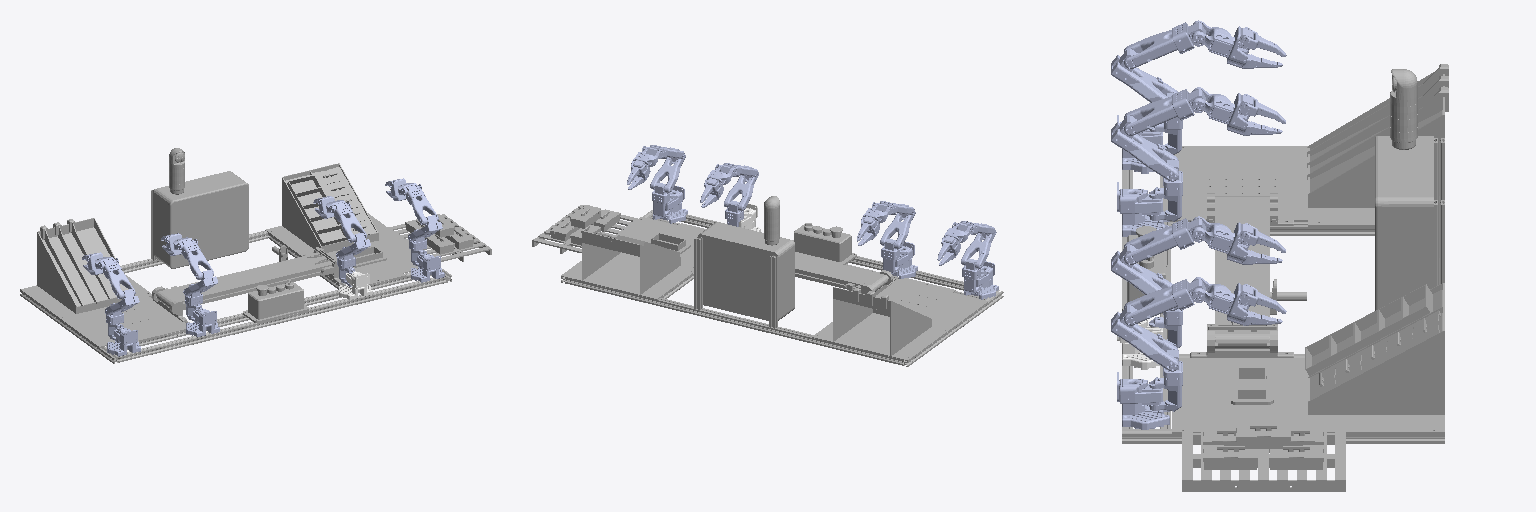
--- Render facts (derived) ---
Views: 3 orthographic renders of the robot side by side, from view 1: azimuth 30°, elevation 25°; view 2: azimuth 150°, elevation 25°; view 3: azimuth 270°, elevation 25°.
Robot: Assem1 — 29 links, 28 joints (27 revolute, 1 fixed); root link base_link; default pose: every joint at zero.
Links seen in each view (by area): view 1: base_link, arm1link1, arm2link1, arm4link1, arm3link1, arm1link4, arm4link4, arm2link4, arm3link4; view 2: base_link, arm2link3, arm3link3, arm1link3, arm4link3, arm3link1, arm1link1, arm2link1; view 3: base_link, arm3link1, arm2link4, arm1link4, arm3link4, arm4link4, arm3link3, arm2link3, arm2link1, arm1link3, arm4link3, arm2link2 (+13 smaller).
Link boxes in pixels (<box>): base_link: <box>20,148,491,363</box>; arm1link1: <box>107,328,140,356</box>; arm2link1: <box>186,308,219,337</box>; arm4link1: <box>339,271,372,300</box>; arm3link1: <box>411,254,444,282</box>; arm1link4: <box>103,259,135,298</box>; arm4link4: <box>334,202,366,242</box>; arm2link4: <box>181,240,213,279</box>; arm3link4: <box>406,185,438,224</box>; base_link: <box>532,196,1003,366</box>; arm2link3: <box>880,204,915,248</box>; arm3link3: <box>650,147,685,192</box>; arm1link3: <box>961,223,996,268</box>; arm4link3: <box>724,165,758,210</box>; arm3link1: <box>653,186,687,223</box>; arm1link1: <box>964,261,998,299</box>; arm2link1: <box>892,242,917,278</box>; base_link: <box>1122,64,1448,491</box>; arm3link1: <box>1117,372,1169,429</box>; arm2link4: <box>1124,89,1205,135</box>; arm1link4: <box>1124,22,1205,68</box>; arm3link4: <box>1124,279,1205,325</box>; arm4link4: <box>1124,218,1205,264</box>; arm3link3: <box>1111,305,1178,371</box>; arm2link3: <box>1111,115,1178,181</box>; arm2link1: <box>1117,182,1169,236</box>; arm1link3: <box>1111,48,1177,102</box>; arm4link3: <box>1111,244,1177,310</box>; arm2link2: <box>1149,160,1182,221</box>.
Size in the robot's own frame: 1.45 by 0.6189 by 0.4218 metres.
29 mesh visuals loaded from 29 distinct referenced files (29 binary STL).

robot.urdf — Assem1:
<?xml version="1.0" encoding="utf-8"?>
<!-- This URDF was automatically created by SolidWorks to URDF Exporter! Originally created by Stephen Brawner ([email redacted]) 
     Commit Version: 1.6.0-4-g7f85cfe  Build Version: 1.6.7995.38578
     For more information, please see http://wiki.ros.org/sw_urdf_exporter -->
<robot
  name="Assem1">
  <link
    name="base_link">
    <inertial>
      <origin
        xyz="0.075591 0.18181 0.53368"
        rpy="0 0 0" />
      <mass
        value="7.5328" />
      <inertia
        ixx="0.047575"
        ixy="5.04E-06"
        ixz="-1.2639E-06"
        iyy="0.1993"
        iyz="0.0015833"
        izz="0.16712" />
    </inertial>
    <visual>
      <origin
        xyz="0 0 0"
        rpy="0 0 0" />
      <geometry>
        <mesh
          filename="package://Assem1/meshes/base_link.STL" />
      </geometry>
      <material
        name="">
        <color
          rgba="0.75294 0.75294 0.75294 1" />
      </material>
    </visual>
    <collision>
      <origin
        xyz="0 0 0"
        rpy="0 0 0" />
      <geometry>
        <mesh
          filename="package://Assem1/meshes/base_link.STL" />
      </geometry>
    </collision>
  </link>
  <link
    name="arm1link1">
    <inertial>
      <origin
        xyz="-0.55999 -0.28744 0.051236"
        rpy="0 0 0" />
      <mass
        value="7.7227" />
      <inertia
        ixx="0.29983"
        ixy="0.0089672"
        ixz="-0.019248"
        iyy="0.99471"
        iyz="0.048622"
        izz="1.206" />
    </inertial>
    <visual>
      <origin
        xyz="0 0 0"
        rpy="0 0 0" />
      <geometry>
        <mesh
          filename="package://Assem1/meshes/arm1link1.STL" />
      </geometry>
      <material
        name="">
        <color
          rgba="0.79216 0.81961 0.93333 1" />
      </material>
    </visual>
    <collision>
      <origin
        xyz="0 0 0"
        rpy="0 0 0" />
      <geometry>
        <mesh
          filename="package://Assem1/meshes/arm1link1.STL" />
      </geometry>
    </collision>
  </link>
  <joint
    name="arm1_joint_base"
    type="fixed">
    <origin
      xyz="-0.47438 -0.81752 0.13149"
      rpy="0 0 -3.1416" />
    <parent
      link="base_link" />
    <child
      link="arm1link1" />
    <axis
      xyz="0 0 0" />
    <limit
      lower="0"
      upper="0"
      effort="0"
      velocity="0" />
  </joint>
  <link
    name="arm1link2">
    <inertial>
      <origin
        xyz="-0.589155263772604 0.0347360316411588 0.242236398861091"
        rpy="0 0 0" />
      <mass
        value="7.72274334503839" />
      <inertia
        ixx="0.299829514622356"
        ixy="-0.0192483600549362"
        ixz="-0.00896715497574477"
        iyy="1.20600140973128"
        iyz="-0.0486215838552607"
        izz="0.994714328801268" />
    </inertial>
    <visual>
      <origin
        xyz="0 0 0"
        rpy="0 0 0" />
      <geometry>
        <mesh
          filename="package://Assem1/meshes/arm1link2.STL" />
      </geometry>
      <material
        name="">
        <color
          rgba="0.792156862745098 0.819607843137255 0.933333333333333 1" />
      </material>
    </visual>
    <collision>
      <origin
        xyz="0 0 0"
        rpy="0 0 0" />
      <geometry>
        <mesh
          filename="package://Assem1/meshes/arm1link2.STL" />
      </geometry>
    </collision>
  </link>
  <joint
    name="arm1_joint2"
    type="revolute">
    <origin
      xyz="0.029162 -0.0452 0.0165"
      rpy="1.5708 0 0" />
    <parent
      link="arm1link1" />
    <child
      link="arm1link2" />
    <axis
      xyz="1 0 0" />
    <limit
      lower="-1.57"
      upper="1.57"
      effort="50"
      velocity="100" />
  </joint>
  <link
    name="arm1link3">
    <inertial>
      <origin
        xyz="-0.589155263772605 -0.212230202839986 0.0658806583496807"
        rpy="0 0 0" />
      <mass
        value="7.72274334503839" />
      <inertia
        ixx="0.299829514622356"
        ixy="-0.00369494243607378"
        ixz="-0.0209106822834102"
        iyy="1.10991499397471"
        iyz="0.115902016487559"
        izz="1.09080074455783" />
    </inertial>
    <visual>
      <origin
        xyz="0 0 0"
        rpy="0 0 0" />
      <geometry>
        <mesh
          filename="package://Assem1/meshes/arm1link3.STL" />
      </geometry>
      <material
        name="">
        <color
          rgba="0.792156862745098 0.819607843137255 0.933333333333333 1" />
      </material>
    </visual>
    <collision>
      <origin
        xyz="0 0 0"
        rpy="0 0 0" />
      <geometry>
        <mesh
          filename="package://Assem1/meshes/arm1link3.STL" />
      </geometry>
    </collision>
  </link>
  <joint
    name="arm1_joint3"
    type="revolute">
    <origin
      xyz="0 0.1025 0.0306"
      rpy="-0.95993 0 0" />
    <parent
      link="arm1link2" />
    <child
      link="arm1link3" />
    <axis
      xyz="1 0 0" />
    <limit
      lower="-1.57"
      upper="1.57"
      effort="50"
      velocity="100" />
  </joint>
  <link
    name="arm1link4">
    <inertial>
      <origin
        xyz="0.589355263432861 0.262344873646822 0.195205701163893"
        rpy="0 0 0" />
      <mass
        value="7.72274334503839" />
      <inertia
        ixx="0.299829514622355"
        ixy="-0.0136552551568466"
        ixz="0.0162617108498505"
        iyy="1.20551052224856"
        iyz="-0.0496742954591334"
        izz="0.995205216283983" />
    </inertial>
    <visual>
      <origin
        xyz="0 0 0"
        rpy="0 0 0" />
      <geometry>
        <mesh
          filename="package://Assem1/meshes/arm1link4.STL" />
      </geometry>
      <material
        name="">
        <color
          rgba="0.792156862745098 0.819607843137255 0.933333333333333 1" />
      </material>
    </visual>
    <collision>
      <origin
        xyz="0 0 0"
        rpy="0 0 0" />
      <geometry>
        <mesh
          filename="package://Assem1/meshes/arm1link4.STL" />
      </geometry>
    </collision>
  </link>
  <joint
    name="arm1_joint4"
    type="revolute">
    <origin
      xyz="0.0002 0.11257 0.028"
      rpy="-0.5236 0 -3.1416" />
    <parent
      link="arm1link3" />
    <child
      link="arm1link4" />
    <axis
      xyz="1 0 0" />
    <limit
      lower="-1.57"
      upper="1.57"
      effort="50"
      velocity="100" />
  </joint>
  <link
    name="arm1link5">
    <inertial>
      <origin
        xyz="-0.589355263432857 -0.22447159114541 -0.139186181909"
        rpy="0 0 0" />
      <mass
        value="7.72274334503839" />
      <inertia
        ixx="0.299829514622356"
        ixy="0.00184304249537437"
        ixz="-0.0211544895358863"
        iyy="1.05068357380714"
        iyz="0.105152652982289"
        izz="1.15003216472541" />
    </inertial>
    <visual>
      <origin
        xyz="0 0 0"
        rpy="0 0 0" />
      <geometry>
        <mesh
          filename="package://Assem1/meshes/arm1link5.STL" />
      </geometry>
      <material
        name="">
        <color
          rgba="0.792156862745098 0.819607843137255 0.933333333333333 1" />
      </material>
    </visual>
    <collision>
      <origin
        xyz="0 0 0"
        rpy="0 0 0" />
      <geometry>
        <mesh
          filename="package://Assem1/meshes/arm1link5.STL" />
      </geometry>
    </collision>
  </link>
  <joint
    name="arm1_joint5"
    type="revolute">
    <origin
      xyz="0 0.0052 0.1349"
      rpy="-0.7854 0 3.1416" />
    <parent
      link="arm1link4" />
    <child
      link="arm1link5" />
    <axis
      xyz="1 0 0" />
    <limit
      lower="-1.57"
      upper="1.57"
      effort="50"
      velocity="100" />
  </joint>
  <link
    name="arm1link6">
    <inertial>
      <origin
        xyz="0.139186181908998 -0.16437159137582 -0.591455269178745"
        rpy="0 0 0" />
      <mass
        value="7.72274334503839" />
      <inertia
        ixx="1.15003216472541"
        ixy="-0.105152652982289"
        ixz="0.021154489535883"
        iyy="1.05068357380714"
        iyz="0.00184304249537477"
        izz="0.299829514622356" />
    </inertial>
    <visual>
      <origin
        xyz="0 0 0"
        rpy="0 0 0" />
      <geometry>
        <mesh
          filename="package://Assem1/meshes/arm1link6.STL" />
      </geometry>
      <material
        name="">
        <color
          rgba="0.792156862745098 0.819607843137255 0.933333333333333 1" />
      </material>
    </visual>
    <collision>
      <origin
        xyz="0 0 0"
        rpy="0 0 0" />
      <geometry>
        <mesh
          filename="package://Assem1/meshes/arm1link6.STL" />
      </geometry>
    </collision>
  </link>
  <joint
    name="arm1_joint6"
    type="revolute">
    <origin
      xyz="0.0021 -0.0601 0"
      rpy="0 1.5708 0" />
    <parent
      link="arm1link5" />
    <child
      link="arm1link6" />
    <axis
      xyz="0 0 1" />
    <limit
      lower="-1.57"
      upper="1.57"
      effort="50"
      velocity="100" />
  </joint>
  <link
    name="claw1">
    <inertial>
      <origin
        xyz="-0.159386182984862 -0.139971588121406 0.591455269178746"
        rpy="0 0 0" />
      <mass
        value="7.72274334503839" />
      <inertia
        ixx="1.15003216472541"
        ixy="0.105152652982289"
        ixz="0.021154489535883"
        iyy="1.05068357380714"
        iyz="-0.00184304249537477"
        izz="0.299829514622356" />
    </inertial>
    <visual>
      <origin
        xyz="0 0 0"
        rpy="0 0 0" />
      <geometry>
        <mesh
          filename="package://Assem1/meshes/claw1.STL" />
      </geometry>
      <material
        name="">
        <color
          rgba="0.792156862745098 0.819607843137255 0.933333333333333 1" />
      </material>
    </visual>
    <collision>
      <origin
        xyz="0 0 0"
        rpy="0 0 0" />
      <geometry>
        <mesh
          filename="package://Assem1/meshes/claw1.STL" />
      </geometry>
    </collision>
  </link>
  <joint
    name="claw1_joint"
    type="revolute">
    <origin
      xyz="-0.0202 -0.0244 0"
      rpy="-3.1416 0 3.1416" />
    <parent
      link="arm1link6" />
    <child
      link="claw1" />
    <axis
      xyz="0 0 1" />
    <limit
      lower="-1.57"
      upper="1.57"
      effort="50"
      velocity="100" />
  </joint>
  <link
    name="arm2link1">
    <inertial>
      <origin
        xyz="-0.271790965063284 -0.287436400309484 0.0512360315517485"
        rpy="0 0 0" />
      <mass
        value="7.72274334503839" />
      <inertia
        ixx="0.299829514622356"
        ixy="0.00896715497574464"
        ixz="-0.0192483600549387"
        iyy="0.994714328801268"
        iyz="0.0486215838552607"
        izz="1.20600140973128" />
    </inertial>
    <visual>
      <origin
        xyz="0 0 0"
        rpy="0 0 0" />
      <geometry>
        <mesh
          filename="package://Assem1/meshes/arm2link1.STL" />
      </geometry>
      <material
        name="">
        <color
          rgba="0.792156862745098 0.819607843137255 0.933333333333333 1" />
      </material>
    </visual>
    <collision>
      <origin
        xyz="0 0 0"
        rpy="0 0 0" />
      <geometry>
        <mesh
          filename="package://Assem1/meshes/arm2link1.STL" />
      </geometry>
    </collision>
  </link>
  <joint
    name="arm2joint1"
    type="revolute">
    <origin
      xyz="-0.18618 -0.81752 0.13149"
      rpy="0 0 -3.1416" />
    <parent
      link="base_link" />
    <child
      link="arm2link1" />
    <axis
      xyz="1 0 0" />
    <limit
      lower="-1.57"
      upper="1.57"
      effort="50"
      velocity="100" />
  </joint>
  <link
    name="arm2link2">
    <inertial>
      <origin
        xyz="-0.300953463254282 0.0347360316411555 0.242236398861091"
        rpy="0 0 0" />
      <mass
        value="7.72274334503839" />
      <inertia
        ixx="0.299829514622356"
        ixy="-0.0192483600549387"
        ixz="-0.00896715497574464"
        iyy="1.20600140973128"
        iyz="-0.0486215838552607"
        izz="0.994714328801268" />
    </inertial>
    <visual>
      <origin
        xyz="0 0 0"
        rpy="0 0 0" />
      <geometry>
        <mesh
          filename="package://Assem1/meshes/arm2link2.STL" />
      </geometry>
      <material
        name="">
        <color
          rgba="0.792156862745098 0.819607843137255 0.933333333333333 1" />
      </material>
    </visual>
    <collision>
      <origin
        xyz="0 0 0"
        rpy="0 0 0" />
      <geometry>
        <mesh
          filename="package://Assem1/meshes/arm2link2.STL" />
      </geometry>
    </collision>
  </link>
  <joint
    name="arm2joint2"
    type="revolute">
    <origin
      xyz="0.029162 -0.0452 0.0165"
      rpy="1.5708 0 0" />
    <parent
      link="arm2link1" />
    <child
      link="arm2link2" />
    <axis
      xyz="1 0 0" />
    <limit
      lower="-1.57"
      upper="1.57"
      effort="50"
      velocity="100" />
  </joint>
  <link
    name="arm2link3">
    <inertial>
      <origin
        xyz="-0.300953463254282 -0.212230202839989 0.06588065834968"
        rpy="0 0 0" />
      <mass
        value="7.72274334503839" />
      <inertia
        ixx="0.299829514622356"
        ixy="-0.00369494243607603"
        ixz="-0.0209106822834105"
        iyy="1.10991499397471"
        iyz="0.115902016487559"
        izz="1.09080074455783" />
    </inertial>
    <visual>
      <origin
        xyz="0 0 0"
        rpy="0 0 0" />
      <geometry>
        <mesh
          filename="package://Assem1/meshes/arm2link3.STL" />
      </geometry>
      <material
        name="">
        <color
          rgba="0.792156862745098 0.819607843137255 0.933333333333333 1" />
      </material>
    </visual>
    <collision>
      <origin
        xyz="0 0 0"
        rpy="0 0 0" />
      <geometry>
        <mesh
          filename="package://Assem1/meshes/arm2link3.STL" />
      </geometry>
    </collision>
  </link>
  <joint
    name="arm2joint3"
    type="revolute">
    <origin
      xyz="0 0.1025 0.0306"
      rpy="-0.95993 0 0" />
    <parent
      link="arm2link2" />
    <child
      link="arm2link3" />
    <axis
      xyz="1 0 0" />
    <limit
      lower="-1.57"
      upper="1.57"
      effort="50"
      velocity="100" />
  </joint>
  <link
    name="arm2link4">
    <inertial>
      <origin
        xyz="0.30115346291454 0.26234487364683 0.19520570116389"
        rpy="0 0 0" />
      <mass
        value="7.72274334503839" />
      <inertia
        ixx="0.299829514622355"
        ixy="-0.0136552551568466"
        ixz="0.0162617108498505"
        iyy="1.20551052224856"
        iyz="-0.0496742954591334"
        izz="0.995205216283983" />
    </inertial>
    <visual>
      <origin
        xyz="0 0 0"
        rpy="0 0 0" />
      <geometry>
        <mesh
          filename="package://Assem1/meshes/arm2link4.STL" />
      </geometry>
      <material
        name="">
        <color
          rgba="0.792156862745098 0.819607843137255 0.933333333333333 1" />
      </material>
    </visual>
    <collision>
      <origin
        xyz="0 0 0"
        rpy="0 0 0" />
      <geometry>
        <mesh
          filename="package://Assem1/meshes/arm2link4.STL" />
      </geometry>
    </collision>
  </link>
  <joint
    name="arm2joint4"
    type="revolute">
    <origin
      xyz="0.0002 0.11257 0.028"
      rpy="-0.5236 0 -3.1416" />
    <parent
      link="arm2link3" />
    <child
      link="arm2link4" />
    <axis
      xyz="1 0 0" />
    <limit
      lower="-1.57"
      upper="1.57"
      effort="50"
      velocity="100" />
  </joint>
  <link
    name="arm2link5">
    <inertial>
      <origin
        xyz="-0.301153462914536 -0.224471591145409 -0.139186181909"
        rpy="0 0 0" />
      <mass
        value="7.72274334503839" />
      <inertia
        ixx="0.299829514622356"
        ixy="0.00184304249537645"
        ixz="-0.021154489535886"
        iyy="1.05068357380714"
        iyz="0.105152652982289"
        izz="1.15003216472541" />
    </inertial>
    <visual>
      <origin
        xyz="0 0 0"
        rpy="0 0 0" />
      <geometry>
        <mesh
          filename="package://Assem1/meshes/arm2link5.STL" />
      </geometry>
      <material
        name="">
        <color
          rgba="0.792156862745098 0.819607843137255 0.933333333333333 1" />
      </material>
    </visual>
    <collision>
      <origin
        xyz="0 0 0"
        rpy="0 0 0" />
      <geometry>
        <mesh
          filename="package://Assem1/meshes/arm2link5.STL" />
      </geometry>
    </collision>
  </link>
  <joint
    name="arm2joint5"
    type="revolute">
    <origin
      xyz="0 0.0052 0.1349"
      rpy="-0.7854 0 3.1416" />
    <parent
      link="arm2link4" />
    <child
      link="arm2link5" />
    <axis
      xyz="1 0 0" />
    <limit
      lower="-1.57"
      upper="1.57"
      effort="50"
      velocity="100" />
  </joint>
  <link
    name="arm2link6">
    <inertial>
      <origin
        xyz="0.139186181909 -0.164371591375819 -0.303253468660424"
        rpy="0 0 0" />
      <mass
        value="7.72274334503839" />
      <inertia
        ixx="1.15003216472541"
        ixy="-0.105152652982289"
        ixz="0.0211544895358851"
        iyy="1.05068357380714"
        iyz="0.00184304249537657"
        izz="0.299829514622356" />
    </inertial>
    <visual>
      <origin
        xyz="0 0 0"
        rpy="0 0 0" />
      <geometry>
        <mesh
          filename="package://Assem1/meshes/arm2link6.STL" />
      </geometry>
      <material
        name="">
        <color
          rgba="0.792156862745098 0.819607843137255 0.933333333333333 1" />
      </material>
    </visual>
    <collision>
      <origin
        xyz="0 0 0"
        rpy="0 0 0" />
      <geometry>
        <mesh
          filename="package://Assem1/meshes/arm2link6.STL" />
      </geometry>
    </collision>
  </link>
  <joint
    name="arm2joint6"
    type="revolute">
    <origin
      xyz="0.0021 -0.0601 0"
      rpy="0 1.5708 0" />
    <parent
      link="arm2link5" />
    <child
      link="arm2link6" />
    <axis
      xyz="0 0 1" />
    <limit
      lower="-1.57"
      upper="1.57"
      effort="50"
      velocity="100" />
  </joint>
  <link
    name="arm2claw">
    <inertial>
      <origin
        xyz="-0.159386182984864 -0.139971588121405 0.303253468660424"
        rpy="0 0 0" />
      <mass
        value="7.72274334503839" />
      <inertia
        ixx="1.15003216472541"
        ixy="0.105152652982289"
        ixz="0.0211544895358851"
        iyy="1.05068357380714"
        iyz="-0.00184304249537657"
        izz="0.299829514622356" />
    </inertial>
    <visual>
      <origin
        xyz="0 0 0"
        rpy="0 0 0" />
      <geometry>
        <mesh
          filename="package://Assem1/meshes/arm2claw.STL" />
      </geometry>
      <material
        name="">
        <color
          rgba="0.792156862745098 0.819607843137255 0.933333333333333 1" />
      </material>
    </visual>
    <collision>
      <origin
        xyz="0 0 0"
        rpy="0 0 0" />
      <geometry>
        <mesh
          filename="package://Assem1/meshes/arm2claw.STL" />
      </geometry>
    </collision>
  </link>
  <joint
    name="arm2claw"
    type="revolute">
    <origin
      xyz="-0.0202 -0.0244 0"
      rpy="3.1416 0 3.1416" />
    <parent
      link="arm2link6" />
    <child
      link="arm2claw" />
    <axis
      xyz="0 0 1" />
    <limit
      lower="-1.57"
      upper="1.57"
      effort="50"
      velocity="100" />
  </joint>
  <link
    name="arm3link1">
    <inertial>
      <origin
        xyz="0.438312108204324 -0.287436400309484 0.0512360315517492"
        rpy="0 0 0" />
      <mass
        value="7.72274334503839" />
      <inertia
        ixx="0.299829514622356"
        ixy="0.00896715497574464"
        ixz="-0.0192483600549387"
        iyy="0.994714328801268"
        iyz="0.0486215838552607"
        izz="1.20600140973128" />
    </inertial>
    <visual>
      <origin
        xyz="0 0 0"
        rpy="0 0 0" />
      <geometry>
        <mesh
          filename="package://Assem1/meshes/arm3link1.STL" />
      </geometry>
      <material
        name="">
        <color
          rgba="0.792156862745098 0.819607843137255 0.933333333333333 1" />
      </material>
    </visual>
    <collision>
      <origin
        xyz="0 0 0"
        rpy="0 0 0" />
      <geometry>
        <mesh
          filename="package://Assem1/meshes/arm3link1.STL" />
      </geometry>
    </collision>
  </link>
  <joint
    name="arm3joint1"
    type="revolute">
    <origin
      xyz="0.52393 -0.81752 0.13149"
      rpy="0 0 -3.1416" />
    <parent
      link="base_link" />
    <child
      link="arm3link1" />
    <axis
      xyz="1 0 0" />
    <limit
      lower="-1.57"
      upper="1.57"
      effort="50"
      velocity="100" />
  </joint>
  <link
    name="arm3link2">
    <inertial>
      <origin
        xyz="0.467674606055576 0.0347360316411547 0.242236398861091"
        rpy="0 0 0" />
      <mass
        value="7.72274334503839" />
      <inertia
        ixx="0.299829514622356"
        ixy="-0.0192483600549362"
        ixz="-0.00896715497574477"
        iyy="1.20600140973128"
        iyz="-0.0486215838552607"
        izz="0.994714328801268" />
    </inertial>
    <visual>
      <origin
        xyz="0 0 0"
        rpy="0 0 0" />
      <geometry>
        <mesh
          filename="package://Assem1/meshes/arm3link2.STL" />
      </geometry>
      <material
        name="">
        <color
          rgba="0.792156862745098 0.819607843137255 0.933333333333333 1" />
      </material>
    </visual>
    <collision>
      <origin
        xyz="0 0 0"
        rpy="0 0 0" />
      <geometry>
        <mesh
          filename="package://Assem1/meshes/arm3link2.STL" />
      </geometry>
    </collision>
  </link>
  <joint
    name="arm3joint2"
    type="revolute">
    <origin
      xyz="-0.029362 -0.0452 0.0165"
      rpy="1.5708 0 0" />
    <parent
      link="arm3link1" />
    <child
      link="arm3link2" />
    <axis
      xyz="1 0 0" />
    <limit
      lower="-1.57"
      upper="1.57"
      effort="50"
      velocity="100" />
  </joint>
  <link
    name="arm3link3">
    <inertial>
      <origin
        xyz="0.467674606055575 -0.21223020283999 0.065880658349682"
        rpy="0 0 0" />
      <mass
        value="7.72274334503839" />
      <inertia
        ixx="0.299829514622356"
        ixy="-0.00369494243607378"
        ixz="-0.0209106822834102"
        iyy="1.10991499397471"
        iyz="0.115902016487559"
        izz="1.09080074455783" />
    </inertial>
    <visual>
      <origin
        xyz="0 0 0"
        rpy="0 0 0" />
      <geometry>
        <mesh
          filename="package://Assem1/meshes/arm3link3.STL" />
      </geometry>
      <material
        name="">
        <color
          rgba="0.792156862745098 0.819607843137255 0.933333333333333 1" />
      </material>
    </visual>
    <collision>
      <origin
        xyz="0 0 0"
        rpy="0 0 0" />
      <geometry>
        <mesh
          filename="package://Assem1/meshes/arm3link3.STL" />
      </geometry>
    </collision>
  </link>
  <joint
    name="arm3joint3"
    type="revolute">
    <origin
      xyz="0 0.1025 0.0306"
      rpy="-0.95993 0 0" />
    <parent
      link="arm3link2" />
    <child
      link="arm3link3" />
    <axis
      xyz="1 0 0" />
    <limit
      lower="-1.57"
      upper="1.57"
      effort="50"
      velocity="100" />
  </joint>
  <link
    name="arm3link4">
    <inertial>
      <origin
        xyz="-0.467674606055571 0.262344873646847 0.195205701163882"
        rpy="0 0 0" />
      <mass
        value="7.72274334503839" />
      <inertia
        ixx="0.299829514622355"
        ixy="-0.0136552551568466"
        ixz="0.0162617108498505"
        iyy="1.20551052224856"
        iyz="-0.0496742954591334"
        izz="0.995205216283983" />
    </inertial>
    <visual>
      <origin
        xyz="0 0 0"
        rpy="0 0 0" />
      <geometry>
        <mesh
          filename="package://Assem1/meshes/arm3link4.STL" />
      </geometry>
      <material
        name="">
        <color
          rgba="0.792156862745098 0.819607843137255 0.933333333333333 1" />
      </material>
    </visual>
    <collision>
      <origin
        xyz="0 0 0"
        rpy="0 0 0" />
      <geometry>
        <mesh
          filename="package://Assem1/meshes/arm3link4.STL" />
      </geometry>
    </collision>
  </link>
  <joint
    name="arm3joint4"
    type="revolute">
    <origin
      xyz="0 0.11257 0.028"
      rpy="-0.5236 0 -3.1416" />
    <parent
      link="arm3link3" />
    <child
      link="arm3link4" />
    <axis
      xyz="1 0 0" />
    <limit
      lower="-1.57"
      upper="1.57"
      effort="50"
      velocity="100" />
  </joint>
  <link
    name="arm3link5">
    <inertial>
      <origin
        xyz="0.467674606055576 -0.224471591145408 -0.139186181908998"
        rpy="0 0 0" />
      <mass
        value="7.72274334503839" />
      <inertia
        ixx="0.299829514622356"
        ixy="0.00184304249537437"
        ixz="-0.0211544895358863"
        iyy="1.05068357380714"
        iyz="0.105152652982289"
        izz="1.15003216472541" />
    </inertial>
    <visual>
      <origin
        xyz="0 0 0"
        rpy="0 0 0" />
      <geometry>
        <mesh
          filename="package://Assem1/meshes/arm3link5.STL" />
      </geometry>
      <material
        name="">
        <color
          rgba="0.792156862745098 0.819607843137255 0.933333333333333 1" />
      </material>
    </visual>
    <collision>
      <origin
        xyz="0 0 0"
        rpy="0 0 0" />
      <geometry>
        <mesh
          filename="package://Assem1/meshes/arm3link5.STL" />
      </geometry>
    </collision>
  </link>
  <joint
    name="arm3joint5"
    type="revolute">
    <origin
      xyz="0 0.0052 0.1349"
      rpy="-0.7854 0 3.1416" />
    <parent
      link="arm3link4" />
    <child
      link="arm3link5" />
    <axis
      xyz="1 0 0" />
    <limit
      lower="-1.57"
      upper="1.57"
      effort="50"
      velocity="100" />
  </joint>
  <link
    name="arm3link6">
    <inertial>
      <origin
        xyz="0.139186181909 -0.164371591375817 0.469774608076174"
        rpy="0 0 0" />
      <mass
        value="7.72274334503839" />
      <inertia
        ixx="1.15003216472541"
        ixy="-0.105152652982289"
        ixz="0.021154489535883"
        iyy="1.05068357380714"
        iyz="0.00184304249537477"
        izz="0.299829514622356" />
    </inertial>
    <visual>
      <origin
        xyz="0 0 0"
        rpy="0 0 0" />
      <geometry>
        <mesh
          filename="package://Assem1/meshes/arm3link6.STL" />
      </geometry>
      <material
        name="">
        <color
          rgba="0.792156862745098 0.819607843137255 0.933333333333333 1" />
      </material>
    </visual>
    <collision>
      <origin
        xyz="0 0 0"
        rpy="0 0 0" />
      <geometry>
        <mesh
          filename="package://Assem1/meshes/arm3link6.STL" />
      </geometry>
    </collision>
  </link>
  <joint
    name="arm3joint6"
    type="revolute">
    <origin
      xyz="-0.0021 -0.0601 0"
      rpy="0 1.5708 0" />
    <parent
      link="arm3link5" />
    <child
      link="arm3link6" />
    <axis
      xyz="0 0 1" />
    <limit
      lower="-1.57"
      upper="1.57"
      effort="50"
      velocity="100" />
  </joint>
  <link
    name="arm3claw">
    <inertial>
      <origin
        xyz="-0.159386182984864 -0.139971588121404 -0.469874606043657"
        rpy="0 0 0" />
      <mass
        value="7.72274334503839" />
      <inertia
        ixx="1.15003216472541"
        ixy="0.105152652982289"
        ixz="0.021154489535883"
        iyy="1.05068357380714"
        iyz="-0.00184304249537477"
        izz="0.299829514622356" />
    </inertial>
    <visual>
      <origin
        xyz="0 0 0"
        rpy="0 0 0" />
      <geometry>
        <mesh
          filename="package://Assem1/meshes/arm3claw.STL" />
      </geometry>
      <material
        name="">
        <color
          rgba="0.792156862745098 0.819607843137255 0.933333333333333 1" />
      </material>
    </visual>
    <collision>
      <origin
        xyz="0 0 0"
        rpy="0 0 0" />
      <geometry>
        <mesh
          filename="package://Assem1/meshes/arm3claw.STL" />
      </geometry>
    </collision>
  </link>
  <joint
    name="arm3claw"
    type="revolute">
    <origin
      xyz="-0.0202 -0.0244 -9.9998E-05"
      rpy="-3.1416 0 3.1416" />
    <parent
      link="arm3link6" />
    <child
      link="arm3claw" />
    <axis
      xyz="0 0 1" />
    <limit
      lower="-1.57"
      upper="1.57"
      effort="50"
      velocity="100" />
  </joint>
  <link
    name="arm4link1">
    <inertial>
      <origin
        xyz="0 0 0"
        rpy="0 0 0" />
      <mass
        value="0" />
      <inertia
        ixx="0"
        ixy="0"
        ixz="0"
        iyy="0"
        iyz="0"
        izz="0" />
    </inertial>
    <visual>
      <origin
        xyz="0 0 0"
        rpy="0 0 0" />
      <geometry>
        <mesh
          filename="package://Assem1/meshes/arm4link1.STL" />
      </geometry>
      <material
        name="">
        <color
          rgba="1 1 1 1" />
      </material>
    </visual>
    <collision>
      <origin
        xyz="0 0 0"
        rpy="0 0 0" />
      <geometry>
        <mesh
          filename="package://Assem1/meshes/arm4link1.STL" />
      </geometry>
    </collision>
  </link>
  <joint
    name="arm4joint1"
    type="revolute">
    <origin
      xyz="0.26158 -0.81752 0.13149"
      rpy="0 0 -3.1416" />
    <parent
      link="base_link" />
    <child
      link="arm4link1" />
    <axis
      xyz="1 0 0" />
    <limit
      lower="-1.57"
      upper="1.57"
      effort="50"
      velocity="100" />
  </joint>
  <link
    name="arm4link2">
    <inertial>
      <origin
        xyz="0.205326478805087 0.0347360316411565 0.242236398861091"
        rpy="0 0 0" />
      <mass
        value="7.72274334503839" />
      <inertia
        ixx="0.299829514622356"
        ixy="-0.0192483600549412"
        ixz="-0.0089671549757445"
        iyy="1.20600140973128"
        iyz="-0.0486215838552608"
        izz="0.994714328801268" />
    </inertial>
    <visual>
      <origin
        xyz="0 0 0"
        rpy="0 0 0" />
      <geometry>
        <mesh
          filename="package://Assem1/meshes/arm4link2.STL" />
      </geometry>
      <material
        name="">
        <color
          rgba="0.792156862745098 0.819607843137255 0.933333333333333 1" />
      </material>
    </visual>
    <collision>
      <origin
        xyz="0 0 0"
        rpy="0 0 0" />
      <geometry>
        <mesh
          filename="package://Assem1/meshes/arm4link2.STL" />
      </geometry>
    </collision>
  </link>
  <joint
    name="arm4joint2"
    type="revolute">
    <origin
      xyz="-0.029362 -0.0452 0.0165"
      rpy="1.5708 0 0" />
    <parent
      link="arm4link1" />
    <child
      link="arm4link2" />
    <axis
      xyz="1 0 0" />
    <limit
      lower="-1.57"
      upper="1.57"
      effort="50"
      velocity="0" />
  </joint>
  <link
    name="arm4link3">
    <inertial>
      <origin
        xyz="0.205326478805087 -0.212230202839988 0.0658806583496814"
        rpy="0 0 0" />
      <mass
        value="7.72274334503839" />
      <inertia
        ixx="0.299829514622356"
        ixy="-0.00369494243607827"
        ixz="-0.0209106822834108"
        iyy="1.10991499397471"
        iyz="0.115902016487559"
        izz="1.09080074455783" />
    </inertial>
    <visual>
      <origin
        xyz="0 0 0"
        rpy="0 0 0" />
      <geometry>
        <mesh
          filename="package://Assem1/meshes/arm4link3.STL" />
      </geometry>
      <material
        name="">
        <color
          rgba="0.792156862745098 0.819607843137255 0.933333333333333 1" />
      </material>
    </visual>
    <collision>
      <origin
        xyz="0 0 0"
        rpy="0 0 0" />
      <geometry>
        <mesh
          filename="package://Assem1/meshes/arm4link3.STL" />
      </geometry>
    </collision>
  </link>
  <joint
    name="arm4joint3"
    type="revolute">
    <origin
      xyz="0 0.1025 0.0306"
      rpy="-0.95993 0 0" />
    <parent
      link="arm4link2" />
    <child
      link="arm4link3" />
    <axis
      xyz="1 0 0" />
    <limit
      lower="-1.57"
      upper="1.57"
      effort="50"
      velocity="100" />
  </joint>
  <link
    name="arm4link4">
    <inertial>
      <origin
        xyz="-0.205326478805083 0.262344873646841 0.195205701163884"
        rpy="0 0 0" />
      <mass
        value="7.72274334503839" />
      <inertia
        ixx="0.299829514622355"
        ixy="-0.0136552551568466"
        ixz="0.0162617108498505"
        iyy="1.20551052224856"
        iyz="-0.0496742954591334"
        izz="0.995205216283983" />
    </inertial>
    <visual>
      <origin
        xyz="0 0 0"
        rpy="0 0 0" />
      <geometry>
        <mesh
          filename="package://Assem1/meshes/arm4link4.STL" />
      </geometry>
      <material
        name="">
        <color
          rgba="0.792156862745098 0.819607843137255 0.933333333333333 1" />
      </material>
    </visual>
    <collision>
      <origin
        xyz="0 0 0"
        rpy="0 0 0" />
      <geometry>
        <mesh
          filename="package://Assem1/meshes/arm4link4.STL" />
      </geometry>
    </collision>
  </link>
  <joint
    name="arm4joint4"
    type="revolute">
    <origin
      xyz="0 0.11257 0.028"
      rpy="-0.5236 0 -3.1416" />
    <parent
      link="arm4link3" />
    <child
      link="arm4link4" />
    <axis
      xyz="1 0 0" />
    <limit
      lower="-1.57"
      upper="1.57"
      effort="50"
      velocity="100" />
  </joint>
  <link
    name="arm4link5">
    <inertial>
      <origin
        xyz="0.205326478805087 -0.224471591145409 -0.139186181908999"
        rpy="0 0 0" />
      <mass
        value="7.72274334503839" />
      <inertia
        ixx="0.299829514622356"
        ixy="0.00184304249537437"
        ixz="-0.0211544895358863"
        iyy="1.05068357380714"
        iyz="0.105152652982289"
        izz="1.15003216472541" />
    </inertial>
    <visual>
      <origin
        xyz="0 0 0"
        rpy="0 0 0" />
      <geometry>
        <mesh
          filename="package://Assem1/meshes/arm4link5.STL" />
      </geometry>
      <material
        name="">
        <color
          rgba="0.792156862745098 0.819607843137255 0.933333333333333 1" />
      </material>
    </visual>
    <collision>
      <origin
        xyz="0 0 0"
        rpy="0 0 0" />
      <geometry>
        <mesh
          filename="package://Assem1/meshes/arm4link5.STL" />
      </geometry>
    </collision>
  </link>
  <joint
    name="arm4joint5"
    type="revolute">
    <origin
      xyz="0 0.0052 0.1349"
      rpy="-0.7854 0 3.1416" />
    <parent
      link="arm4link4" />
    <child
      link="arm4link5" />
    <axis
      xyz="1 0 0" />
    <limit
      lower="-1.57"
      upper="1.57"
      effort="50"
      velocity="100" />
  </joint>
  <link
    name="arm4link6">
    <inertial>
      <origin
        xyz="0.139186181909 -0.164371591375819 0.207426480825684"
        rpy="0 0 0" />
      <mass
        value="7.72274334503839" />
      <inertia
        ixx="1.15003216472541"
        ixy="-0.10515265298229"
        ixz="0.0211544895358824"
        iyy="1.05068357380714"
        iyz="0.00184304249537894"
        izz="0.299829514622356" />
    </inertial>
    <visual>
      <origin
        xyz="0 0 0"
        rpy="0 0 0" />
      <geometry>
        <mesh
          filename="package://Assem1/meshes/arm4link6.STL" />
      </geometry>
      <material
        name="">
        <color
          rgba="0.792156862745098 0.819607843137255 0.933333333333333 1" />
      </material>
    </visual>
    <collision>
      <origin
        xyz="0 0 0"
        rpy="0 0 0" />
      <geometry>
        <mesh
          filename="package://Assem1/meshes/arm4link6.STL" />
      </geometry>
    </collision>
  </link>
  <joint
    name="arm4joint6"
    type="revolute">
    <origin
      xyz="-0.0021 -0.0601 0"
      rpy="0 1.5708 0" />
    <parent
      link="arm4link5" />
    <child
      link="arm4link6" />
    <axis
      xyz="0 0 1" />
    <limit
      lower="-1.57"
      upper="1.57"
      effort="50"
      velocity="100" />
  </joint>
  <link
    name="arm4claw">
    <inertial>
      <origin
        xyz="-0.159386182984864 -0.139971588121406 -0.207526478793167"
        rpy="0 0 0" />
      <mass
        value="7.72274334503839" />
      <inertia
        ixx="1.15003216472541"
        ixy="0.10515265298229"
        ixz="0.0211544895358824"
        iyy="1.05068357380714"
        iyz="-0.00184304249537894"
        izz="0.299829514622356" />
    </inertial>
    <visual>
      <origin
        xyz="0 0 0"
        rpy="0 0 0" />
      <geometry>
        <mesh
          filename="package://Assem1/meshes/arm4claw.STL" />
      </geometry>
      <material
        name="">
        <color
          rgba="0.792156862745098 0.819607843137255 0.933333333333333 1" />
      </material>
    </visual>
    <collision>
      <origin
        xyz="0 0 0"
        rpy="0 0 0" />
      <geometry>
        <mesh
          filename="package://Assem1/meshes/arm4claw.STL" />
      </geometry>
    </collision>
  </link>
  <joint
    name="arm4claw"
    type="revolute">
    <origin
      xyz="-0.0202 -0.0244 -9.9998E-05"
      rpy="-3.1416 0 3.1416" />
    <parent
      link="arm4link6" />
    <child
      link="arm4claw" />
    <axis
      xyz="0 0 1" />
    <limit
      lower="-1.57"
      upper="1.57"
      effort="50"
      velocity="100" />
  </joint>
</robot>
